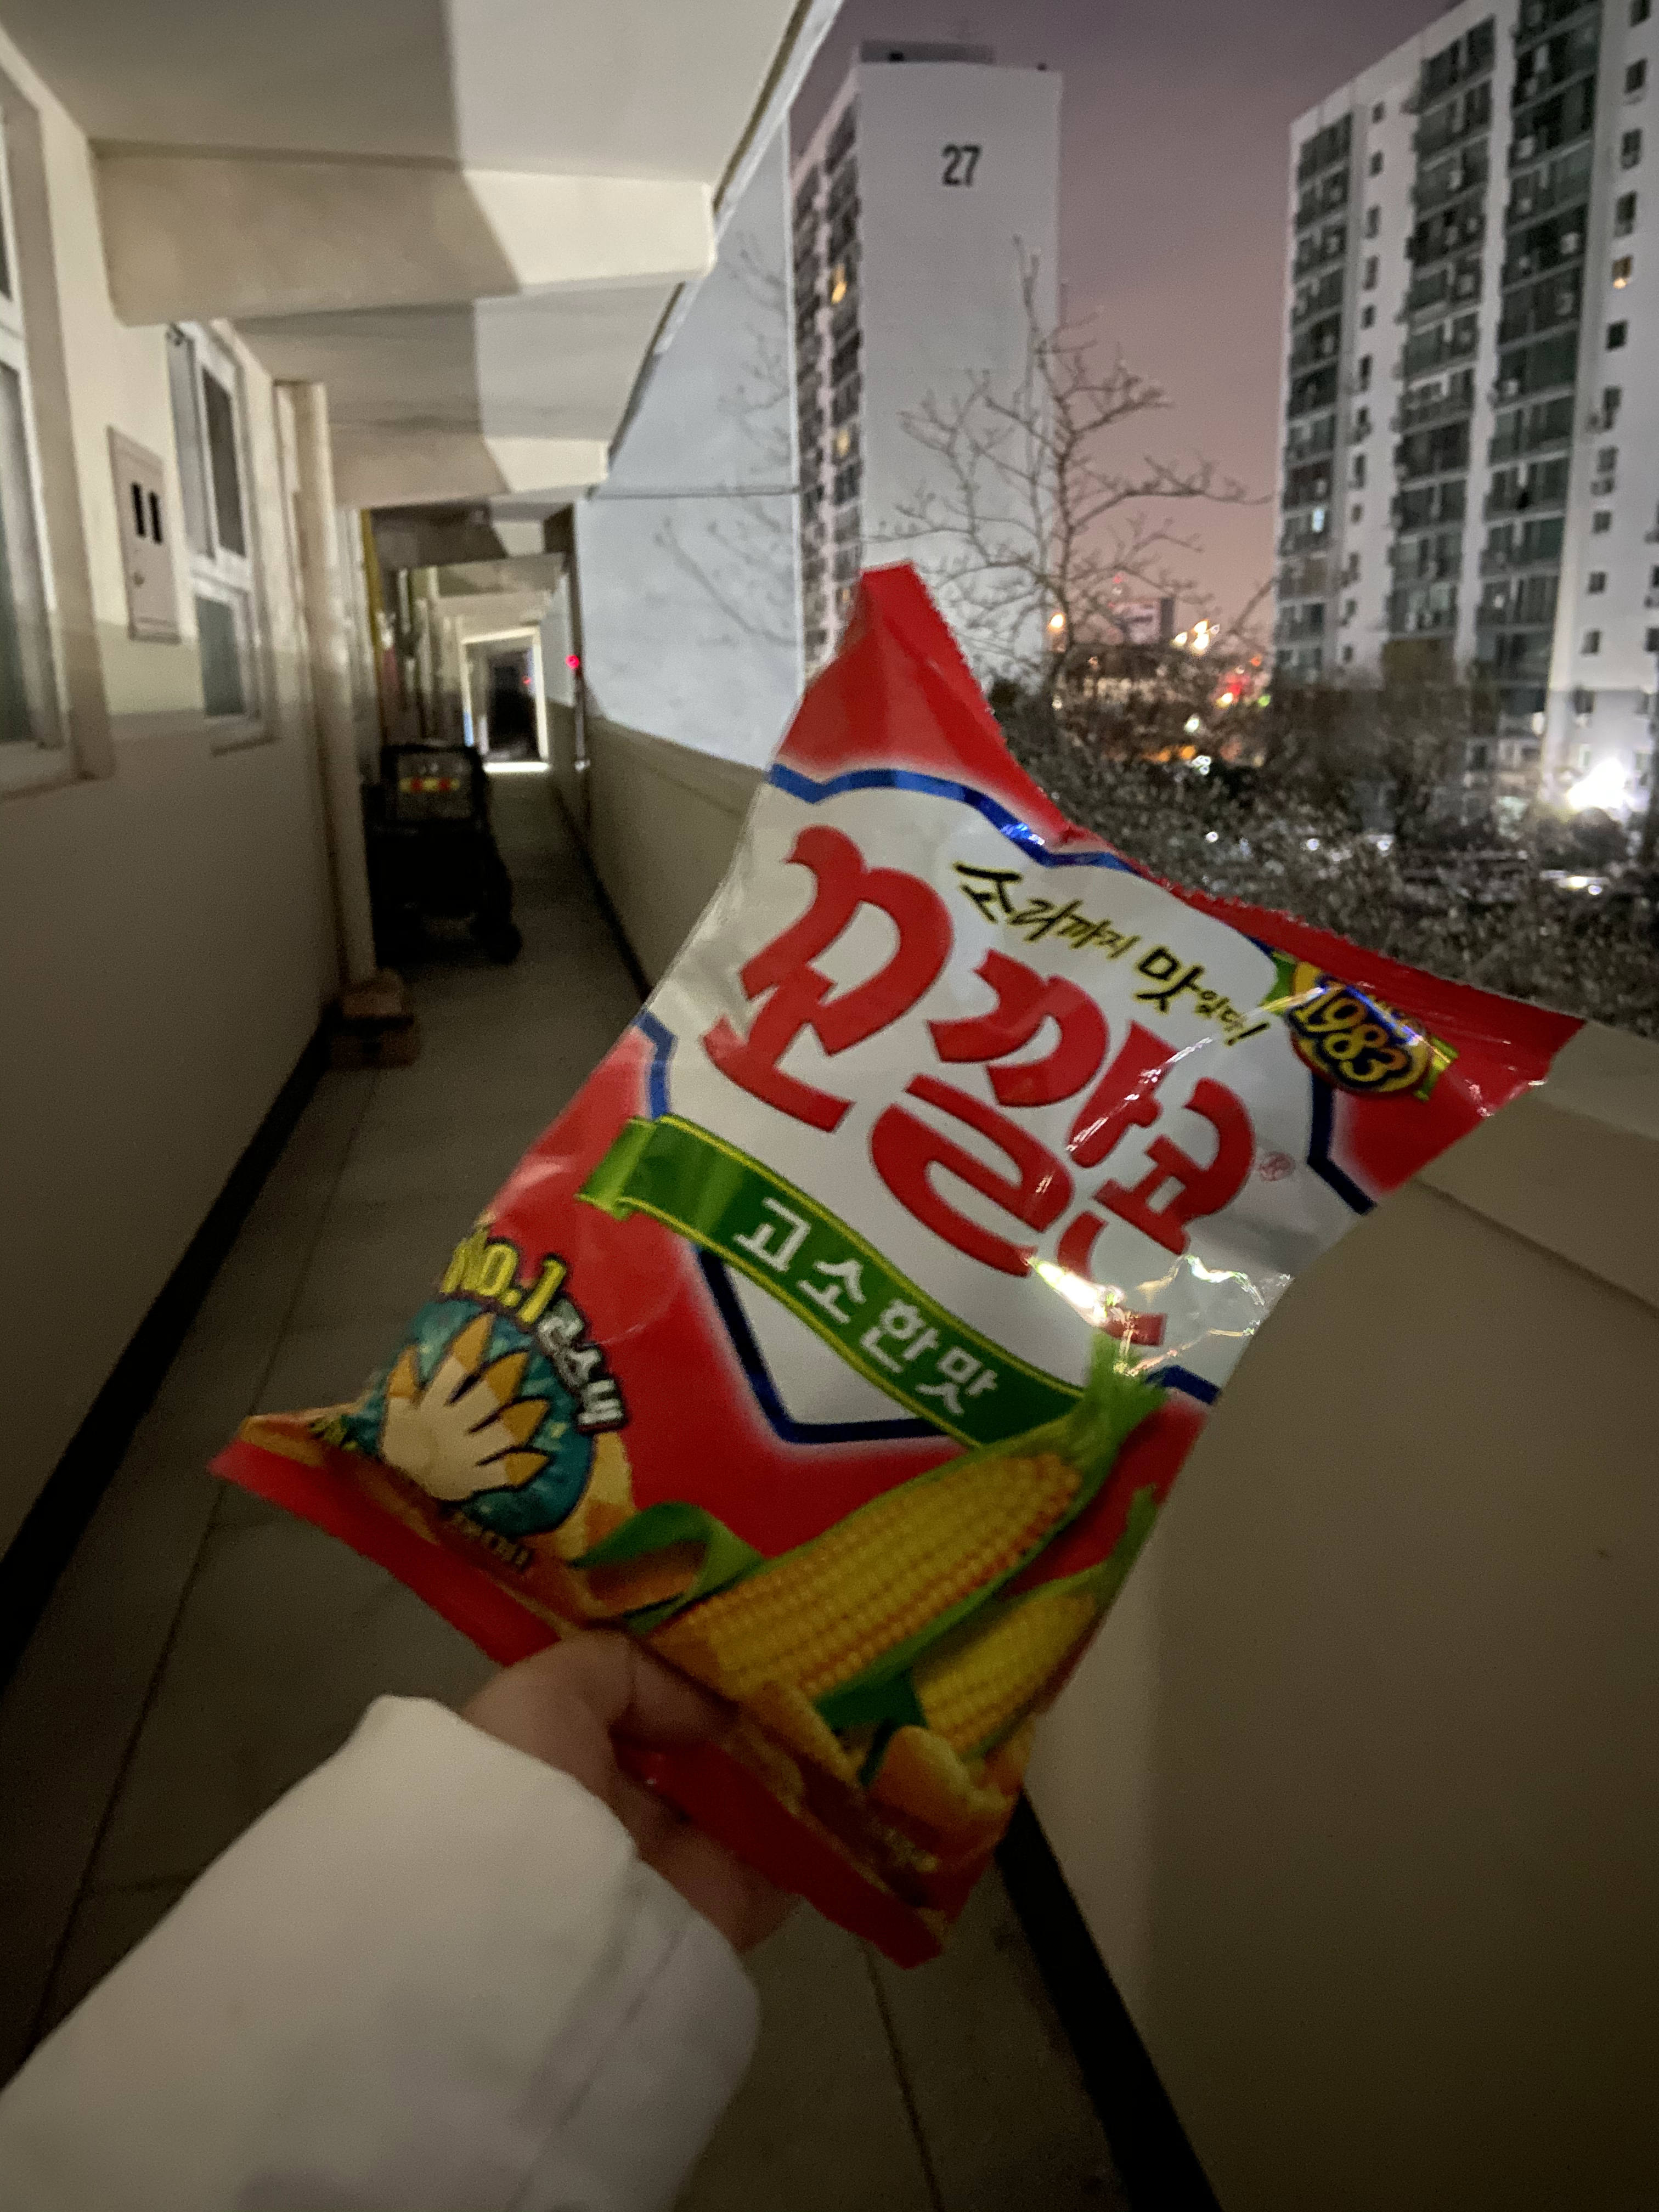ggoggalcon: (197, 549, 1596, 1998)
